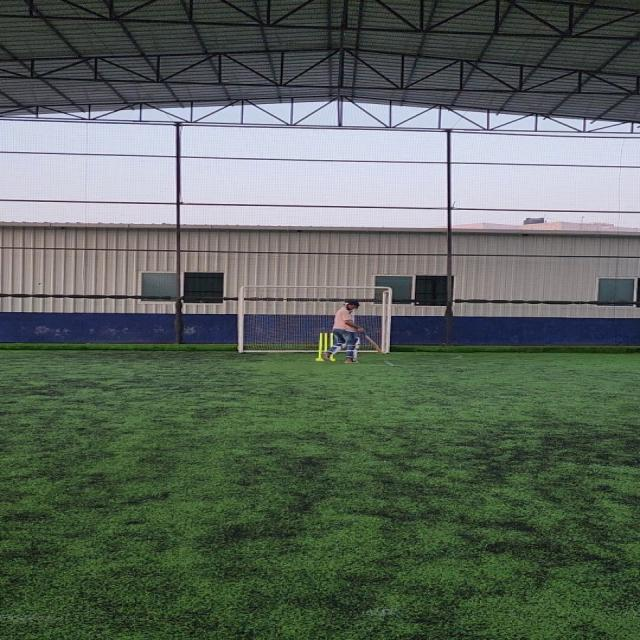stump: (318, 332, 336, 361)
